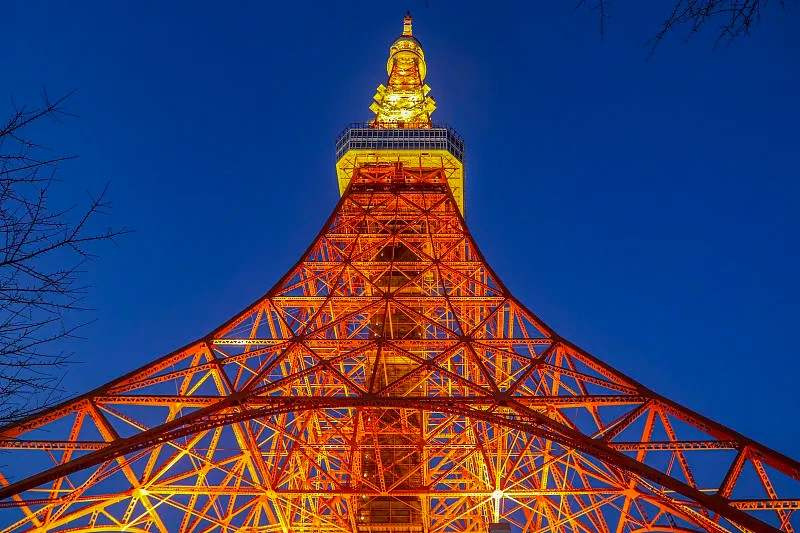Tokyo: (1, 6, 800, 532)
